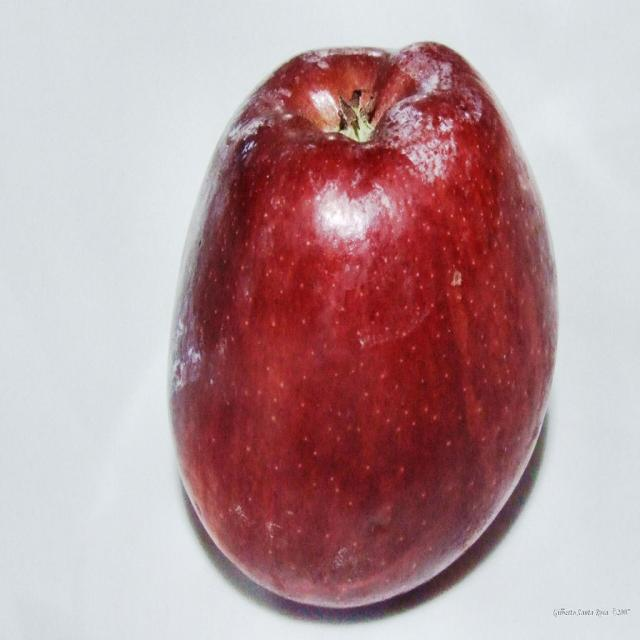Healty Apple: (164, 35, 548, 618)
